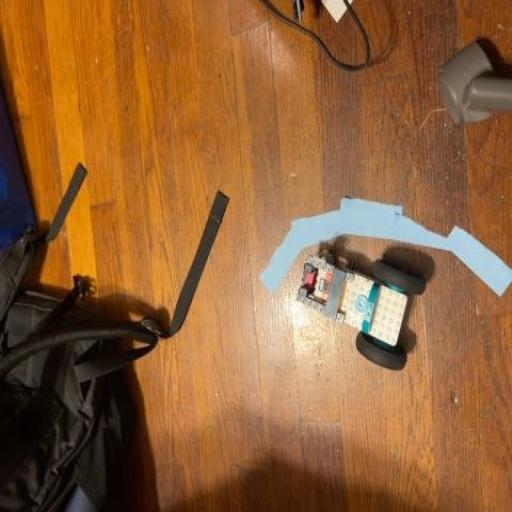Opponent: (294, 240, 430, 375)
